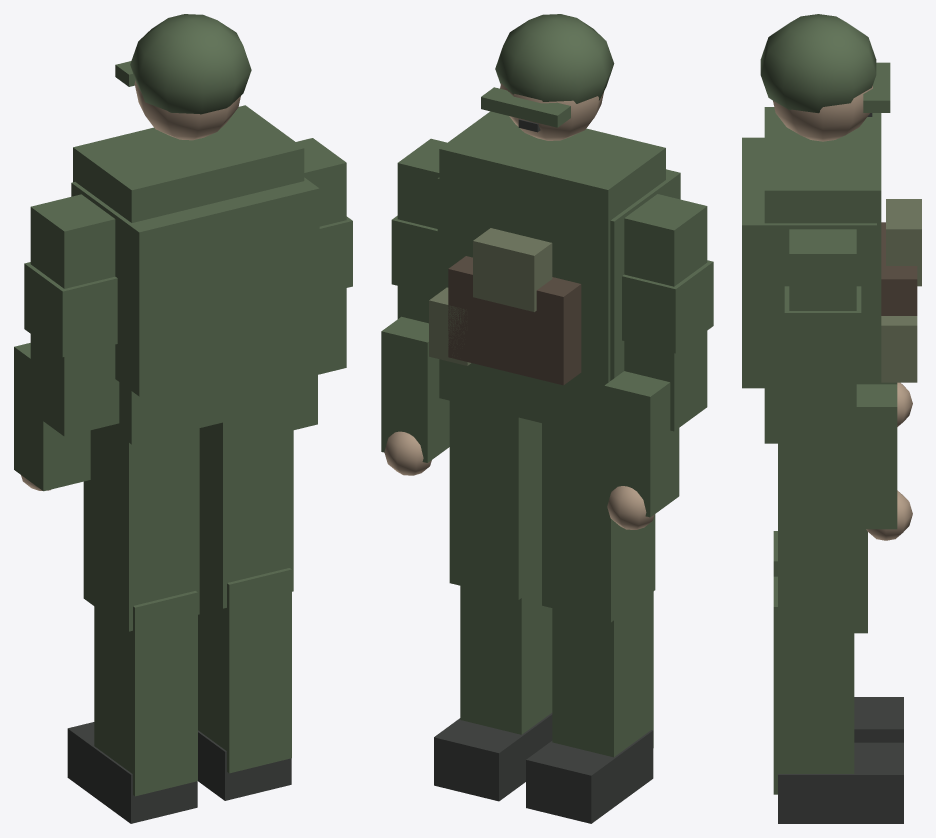
File: c_officer.glb
3 renders of one model, left to right at view 1: azimuth 30°, elevation 25°; view 2: azimuth 150°, elevation 25°; view 3: azimuth 270°, elevation 25°, orthographic. The views are drawn at different scales.
Parts seen in each view (by area): view 1: torso, leg_l, leg_r, arm_l, head, arm_r; view 2: torso, leg_l, leg_r, arm_l, arm_r, head; view 3: leg_r, torso, arm_r, head, leg_l, arm_l.
Boxes of the visible parts, box(x1,y1,x2,y2) form: torso: box(71, 105, 319, 444); leg_l: box(67, 426, 199, 823); leg_r: box(198, 405, 293, 800); arm_l: box(14, 194, 119, 491); head: box(115, 14, 251, 140); arm_r: box(293, 138, 352, 429); torso: box(429, 111, 680, 438); leg_l: box(526, 423, 655, 823); leg_r: box(434, 401, 552, 801); arm_l: box(604, 194, 713, 529); arm_r: box(381, 138, 449, 475); head: box(481, 14, 614, 140); leg_r: box(773, 443, 903, 823); torso: box(742, 107, 921, 443); arm_r: box(784, 229, 912, 540); head: box(760, 14, 890, 141); leg_l: box(773, 531, 903, 742); arm_l: box(881, 382, 912, 426).
Bounding box in the file's own units: 0.74 × 1.87 × 0.4.
